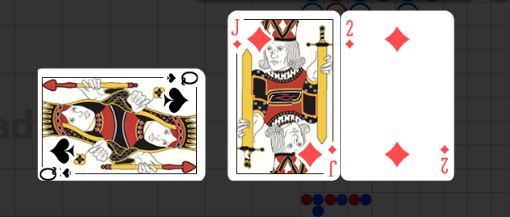2D: (438, 143, 451, 175)
9S: (164, 70, 200, 86), (40, 166, 73, 180)
